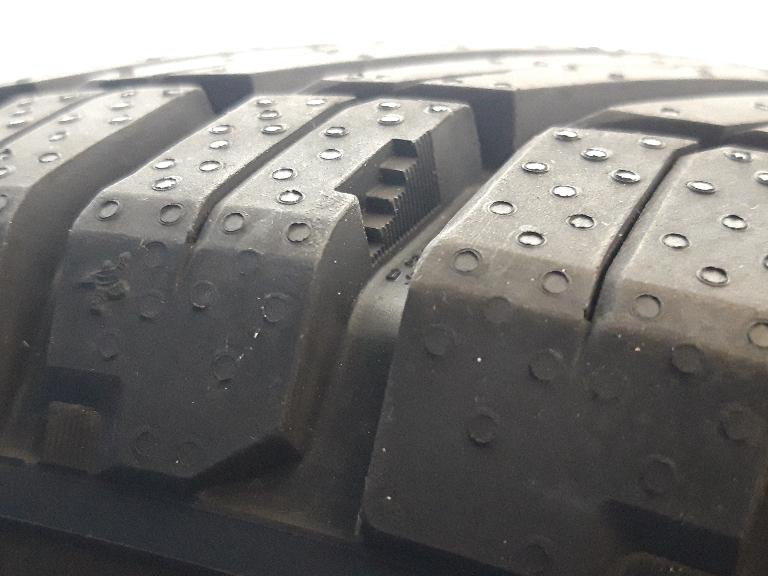temoin:100: (332, 128, 446, 269)
